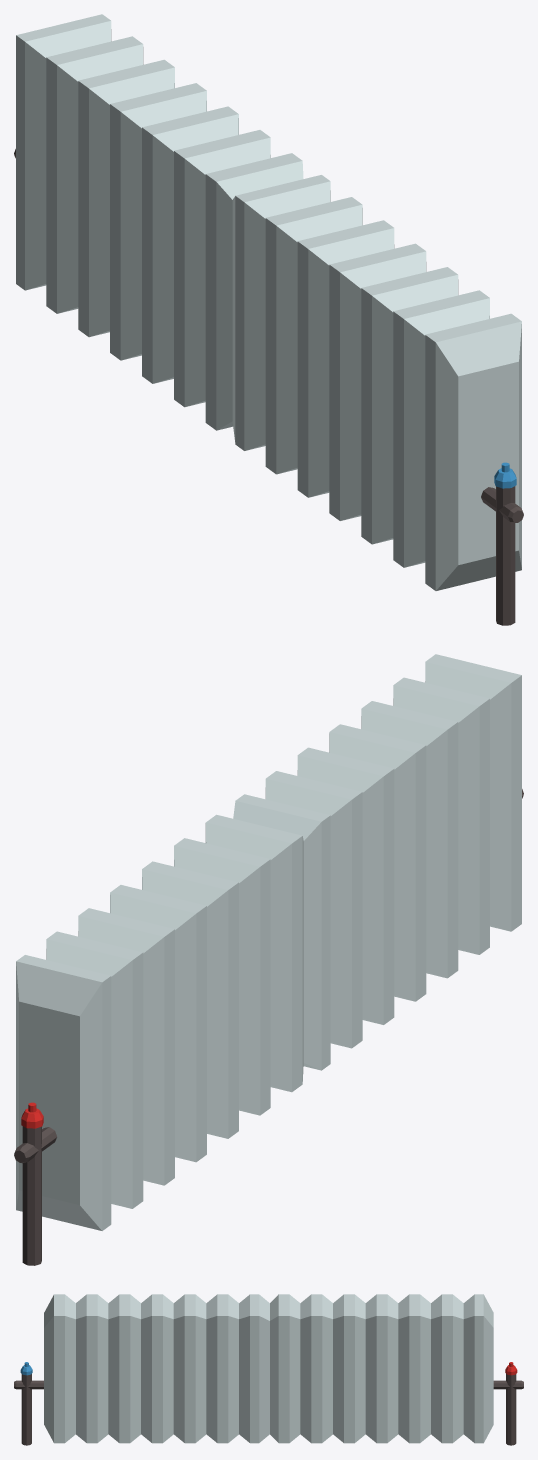
The model's file is radiator.fbx.
3 views of the same model, one above another, from view 1: azimuth 30°, elevation 25°; view 2: azimuth 150°, elevation 25°; view 3: azimuth 270°, elevation 25° (orthographic). The views are drawn at different scales.
Visible parts, largest first — view 1: Cube.006; view 2: Cube.006; view 3: Cube.006.
Boxes of the visible parts, left/top/right/bottom form: Cube.006: left=14, top=14, right=523, bottom=625; Cube.006: left=14, top=654, right=523, bottom=1265; Cube.006: left=14, top=1294, right=523, bottom=1445.
Bounding box in the file's own units: 79.06 × 237 × 791.
Materials: 1 (1 with a texture image).
